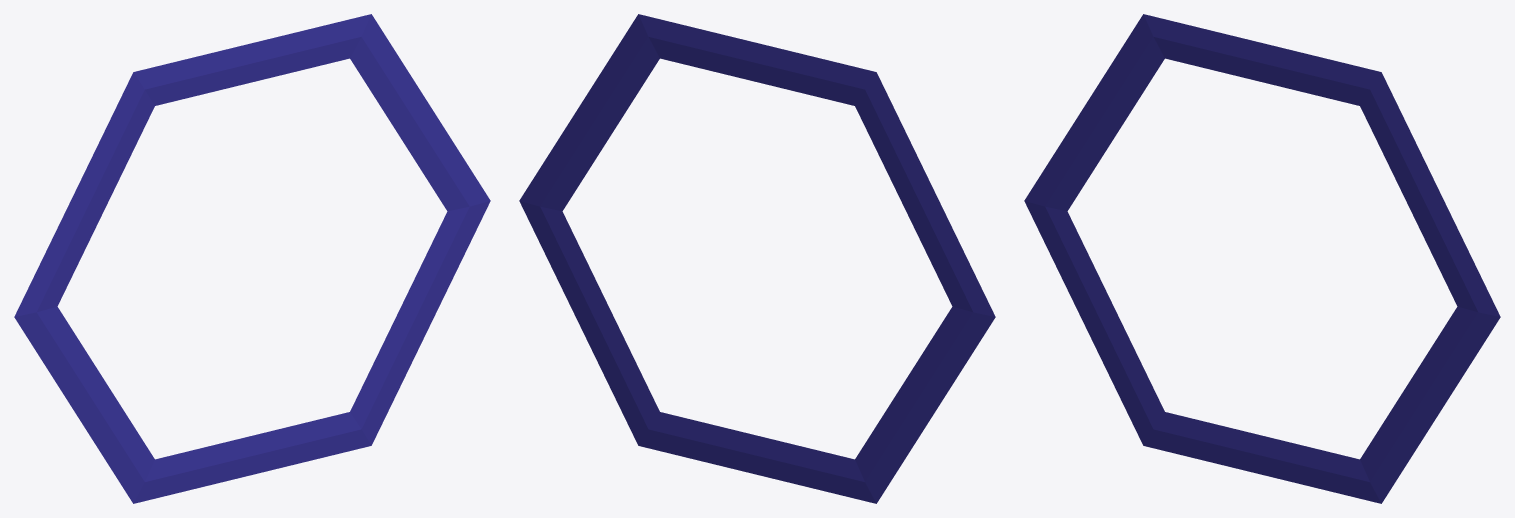
File: enef.obj
3 renders of one model, left to right at view 1: azimuth 30°, elevation 25°; view 2: azimuth 150°, elevation 25°; view 3: azimuth 330°, elevation 25°, orthographic.
Visible parts, largest first — view 1: pTorus1; view 2: pTorus1; view 3: pTorus1.
Part boxes in pixels (x1,y1,x2,y2): pTorus1: (14, 14, 490, 503); pTorus1: (519, 14, 995, 503); pTorus1: (1024, 14, 1500, 503).
Size of the model in its own units: 0.3899 by 0.3376 by 0.002.
